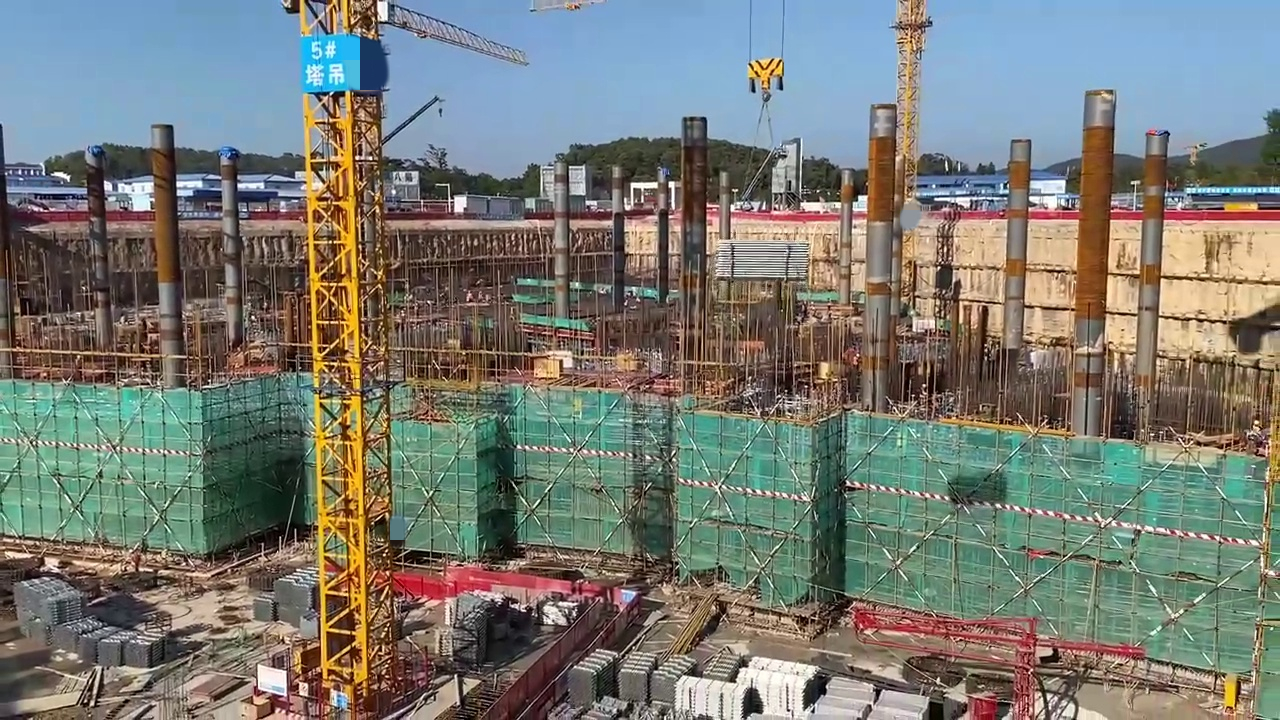fence: (448, 564, 609, 603), (401, 568, 450, 595)
hook: (747, 58, 785, 92)
scaffold: (12, 576, 171, 666), (735, 657, 816, 716), (715, 241, 811, 279), (569, 647, 614, 710), (676, 677, 738, 720), (274, 568, 319, 627), (654, 647, 693, 702), (616, 649, 653, 702)
